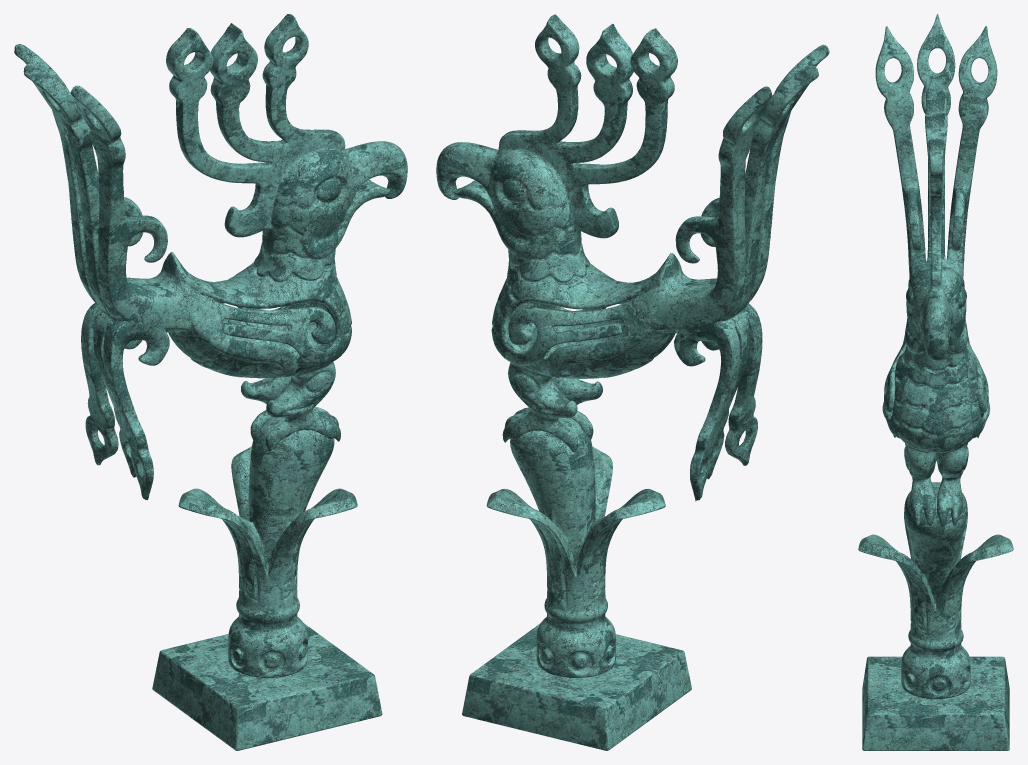
File: bird-branch.glb
The picture shows the model from 3 angles, left to right: view 1: azimuth 30°, elevation 25°; view 2: azimuth 150°, elevation 25°; view 3: azimuth 270°, elevation 25°; orthographic projection. The views are drawn at different scales.
Visible parts, largest first — view 1: 优库素材_2; view 2: 优库素材_2; view 3: 优库素材_2.
Part boxes in pixels (box(x1,y1,x2,y2)): 优库素材_2: box(14, 14, 407, 750); 优库素材_2: box(436, 14, 829, 750); 优库素材_2: box(858, 14, 1013, 750).
Size of the model in its own units: 2.08 by 3.62 by 0.8432.
1 material, 1 textured.
